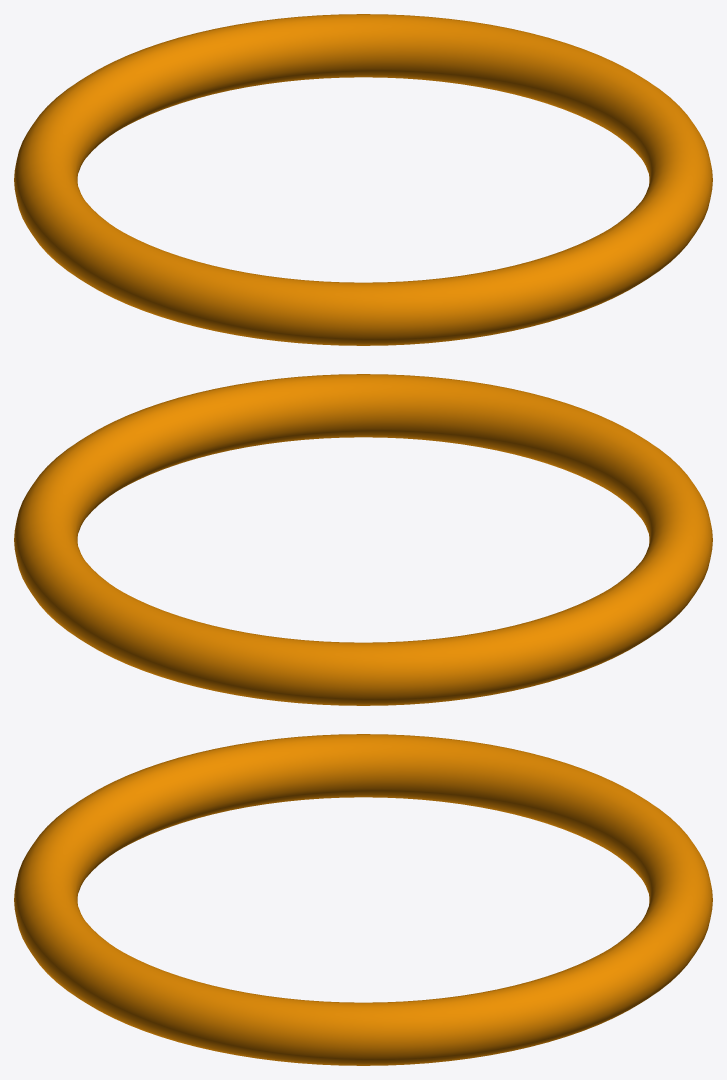
Rendered from Model_WireActionRing3.fbx.
3 views of the same model, one above another, from view 1: azimuth 30°, elevation 25°; view 2: azimuth 150°, elevation 25°; view 3: azimuth 270°, elevation 25° (orthographic).
Visible parts, largest first — view 1: Torus; view 2: Torus; view 3: Torus.
Part boxes in pixels (x1,y1,x2,y2): Torus: [14, 14, 712, 345]; Torus: [14, 374, 712, 705]; Torus: [14, 734, 712, 1065].
Bounding box in the file's own units: 1320 × 118 × 1320.
